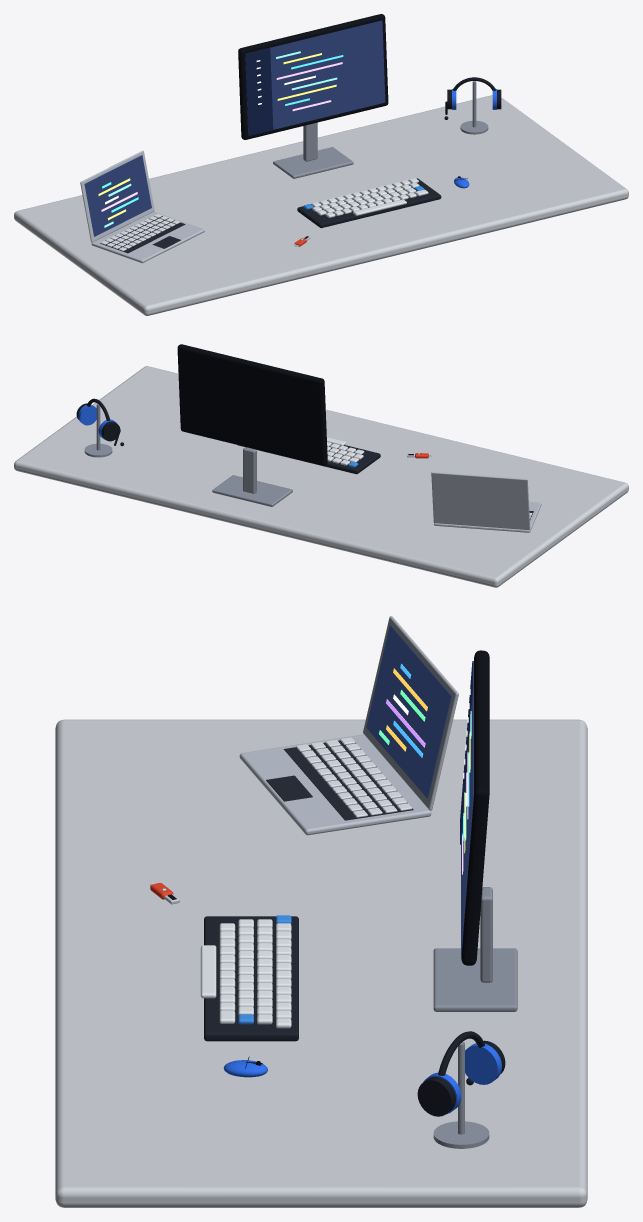
Rendered from alat-programmer.glb.
3 views of the same model, one above another, from view 1: azimuth 30°, elevation 25°; view 2: azimuth 150°, elevation 25°; view 3: azimuth 270°, elevation 25° (orthographic). The views are drawn at different scales.
Parts seen in each view (by area): view 1: model; view 2: model; view 3: model.
Boxes of the visible parts, x1,y1,x2,y2 form: model: [14, 14, 628, 315]; model: [14, 344, 628, 587]; model: [55, 616, 587, 1207].
Bounding box in the file's own units: 4 × 1.12 × 1.9.
